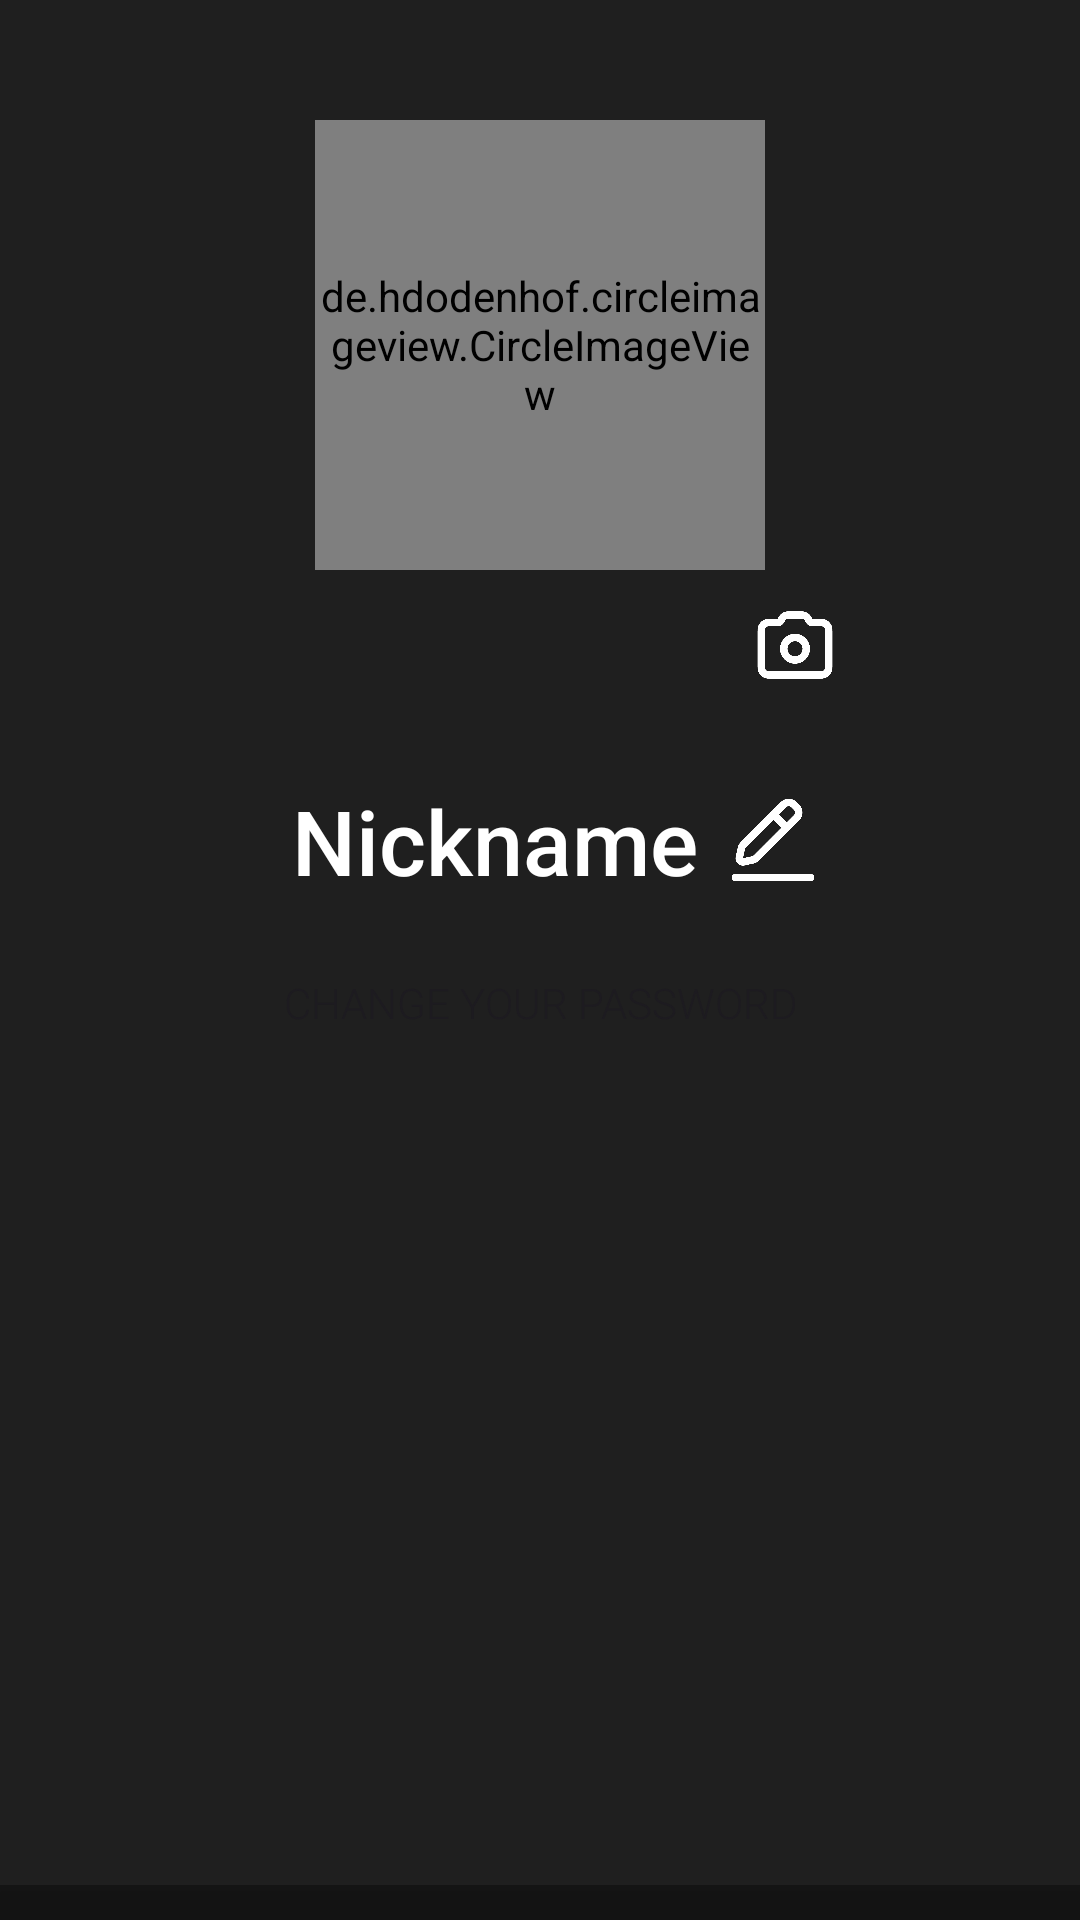

Icons on this 1080*1920 Android screen, each with its box as detection(x1, y1, x2, y2):
camera: detection(757, 611, 833, 679)
write: detection(732, 799, 814, 881)
